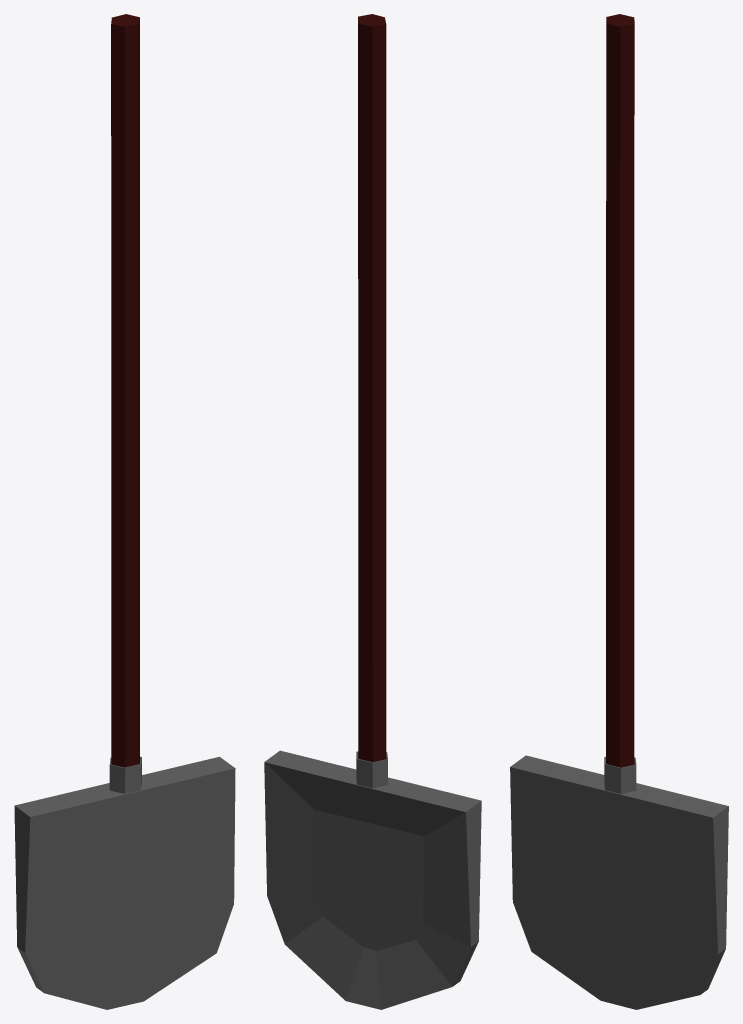
3 renders of one model, left to right at view 1: azimuth 30°, elevation 25°; view 2: azimuth 150°, elevation 25°; view 3: azimuth 330°, elevation 25°, orthographic.
Visible parts, largest first — view 1: metal, cabo; view 2: metal, cabo; view 3: metal, cabo.
Boxes of the visible parts, x1,y1,x2,y2 form: metal: (14,756,235,1009); cabo: (111,14,139,767); metal: (264,750,481,1009); cabo: (358,14,386,762); metal: (510,755,728,1009); cabo: (606,14,634,767).
Size of the model in its own units: 40.46 by 184 by 6.27.
